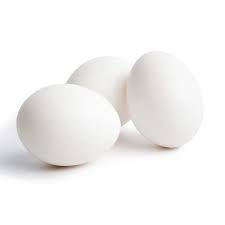eggs: (16, 82, 121, 165), (128, 49, 209, 154), (71, 51, 134, 129)
